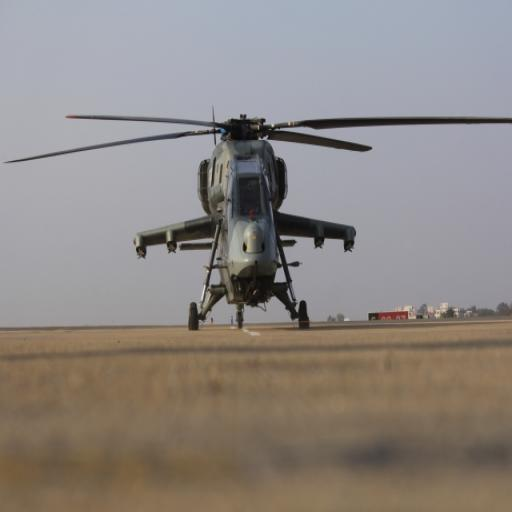helicopter: (25, 72, 481, 342)
